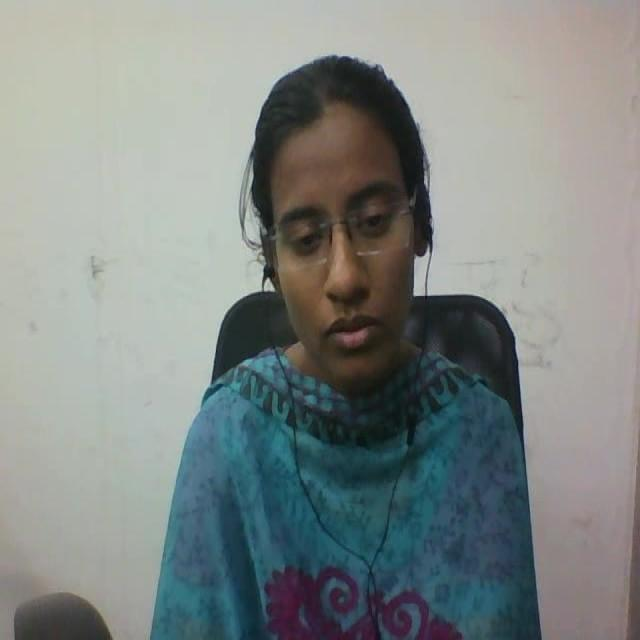Bored: (212, 21, 498, 438)
